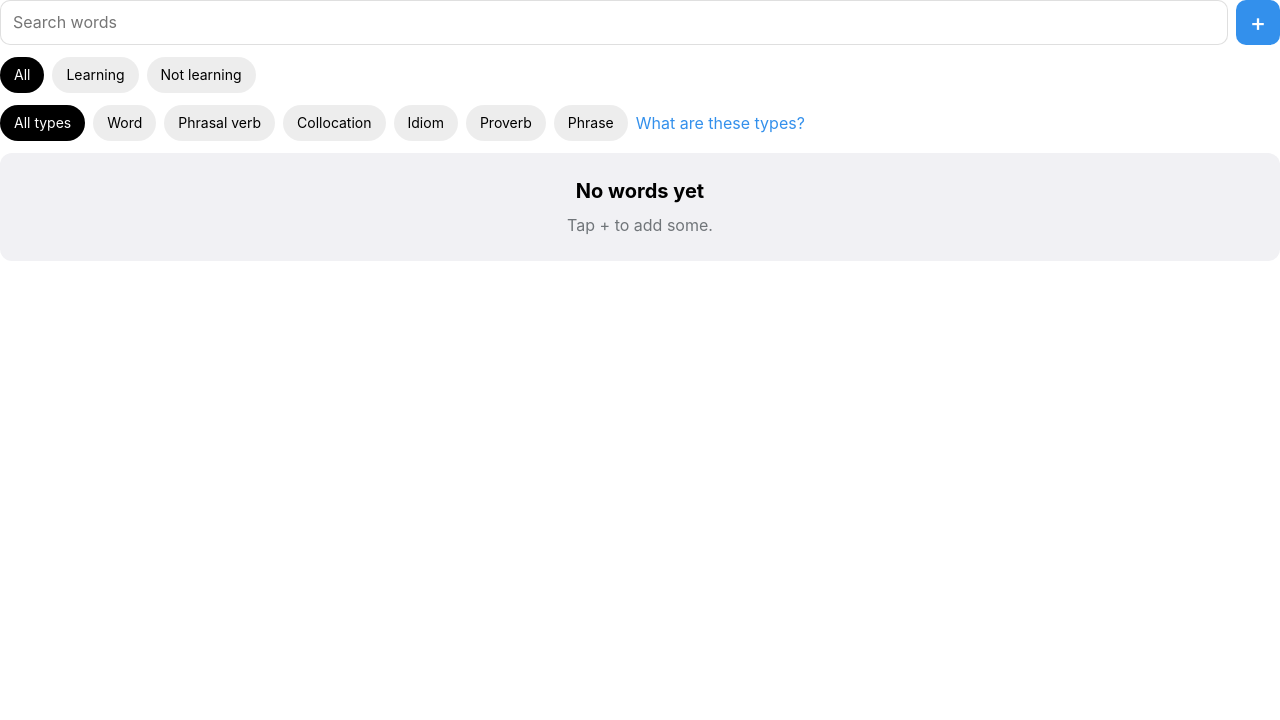
CardsPage › add words sheet › opens from + with the batch form and closes on Close
Expected: the heading "No words yet" is shown, [576,177,704,206]
Click the button named "Add words" at (1258, 23), box [1236,0,1279,45]
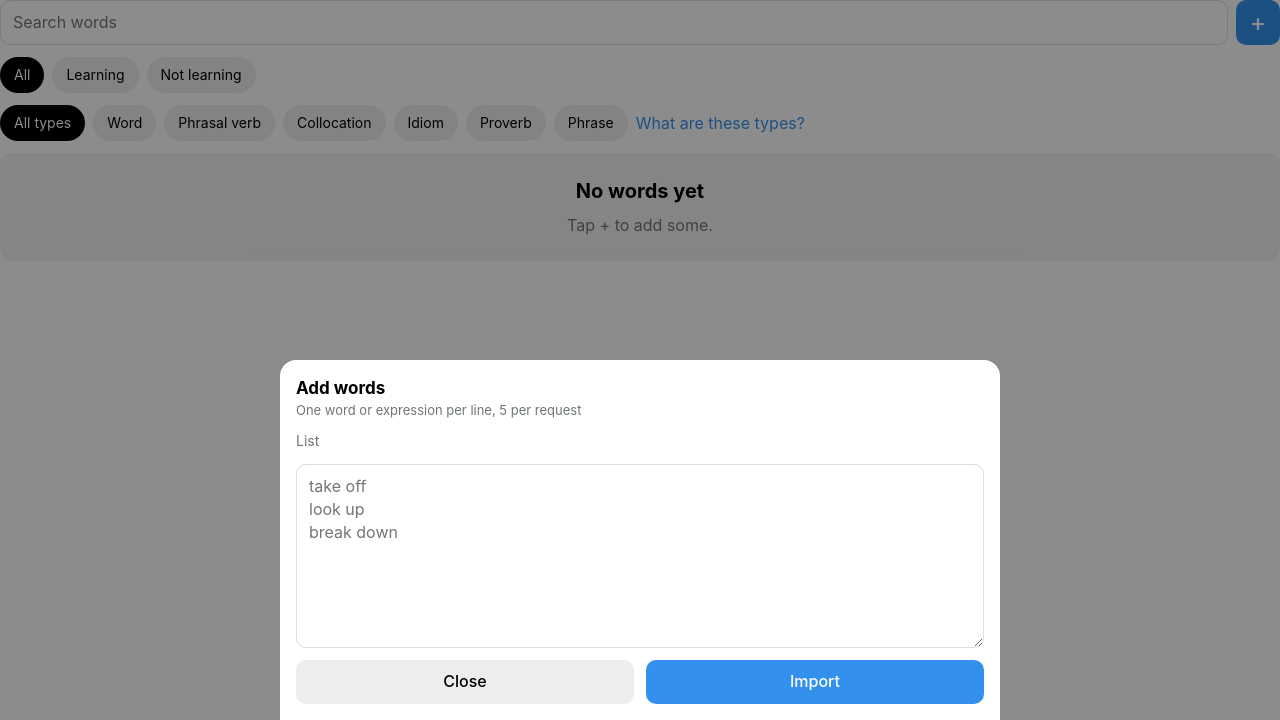
Expected: the text box labelled "List" is shown, [296,464,984,648]
Click the button "Close" at (465, 682), box [296,660,634,704]
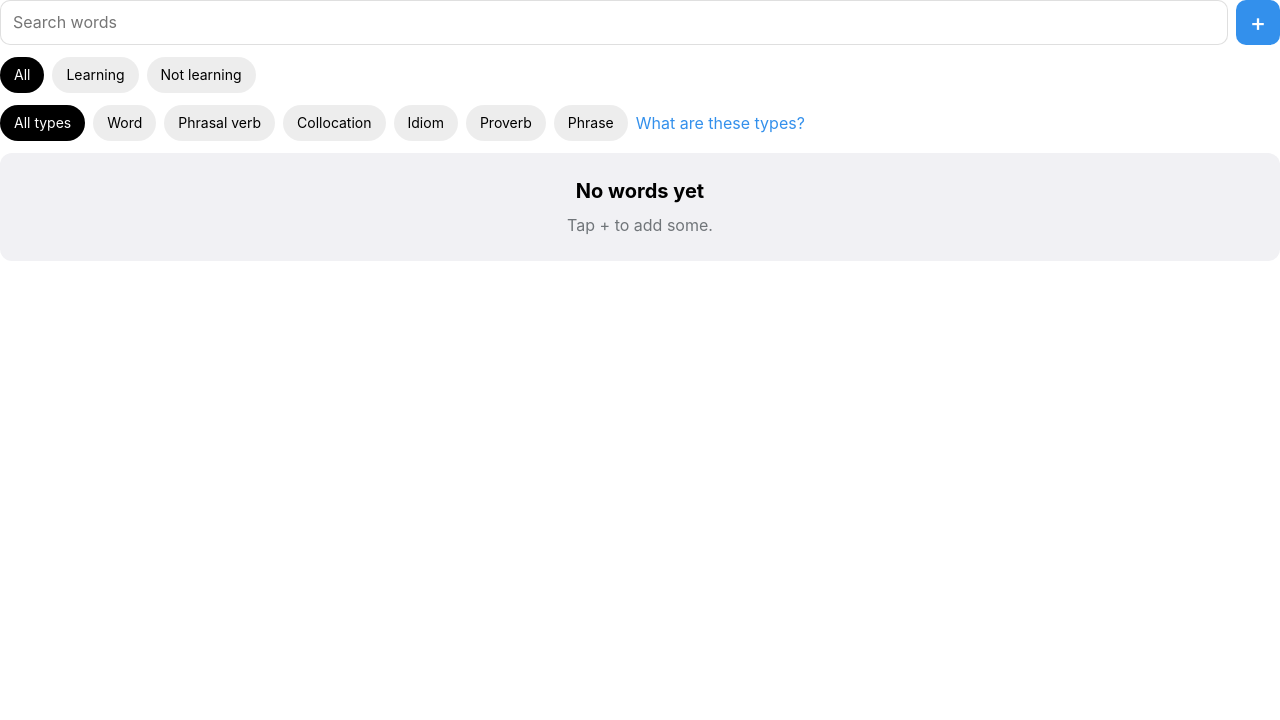
Expected: the dialog is gone
